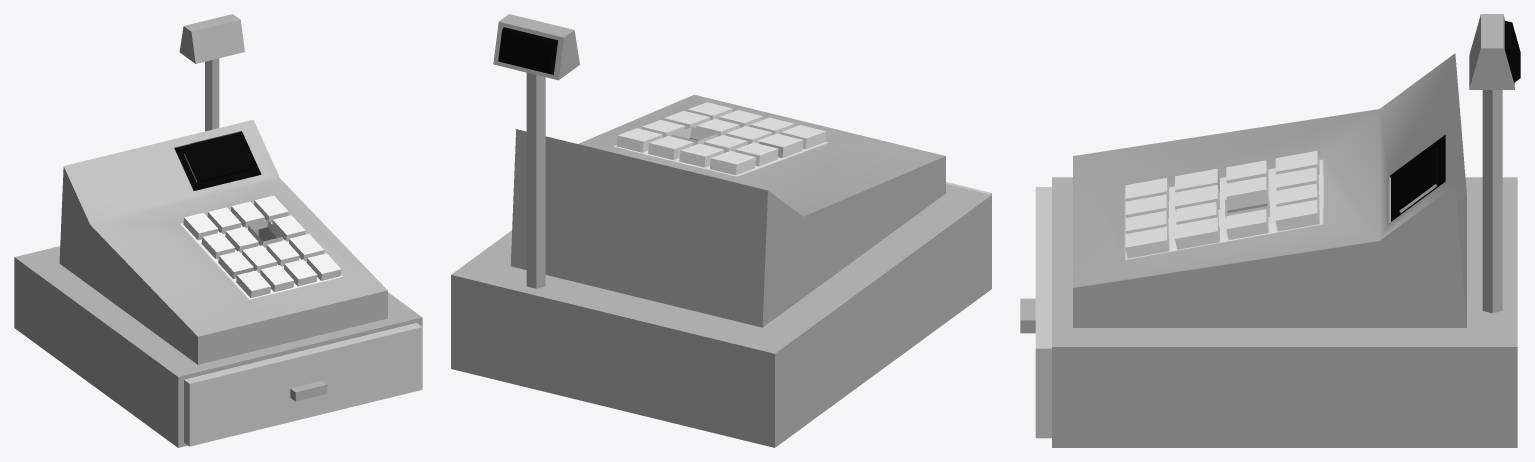
File: Cashier.fbx
3 views of the same model, side by side, from view 1: azimuth 30°, elevation 25°; view 2: azimuth 150°, elevation 25°; view 3: azimuth 270°, elevation 25° (orthographic). The views are drawn at different scales.
Parts seen in each view (by area): view 1: Cashier; view 2: Cashier; view 3: Cashier.
Part boxes in pixels (bbox=[...]): Cashier: bbox=[14, 14, 422, 447]; Cashier: bbox=[451, 14, 991, 447]; Cashier: bbox=[1020, 14, 1520, 447].
Size of the model in its own units: 3.8 by 3.95 by 4.73.
Materials: 1 (1 with a texture image).
